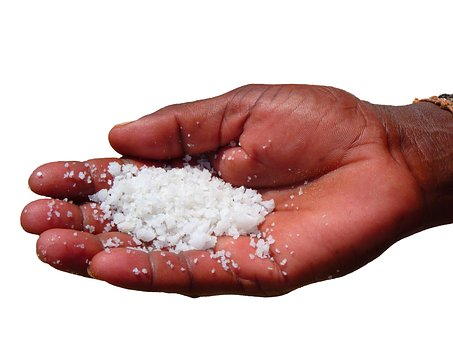palm: (213, 116, 385, 259)
